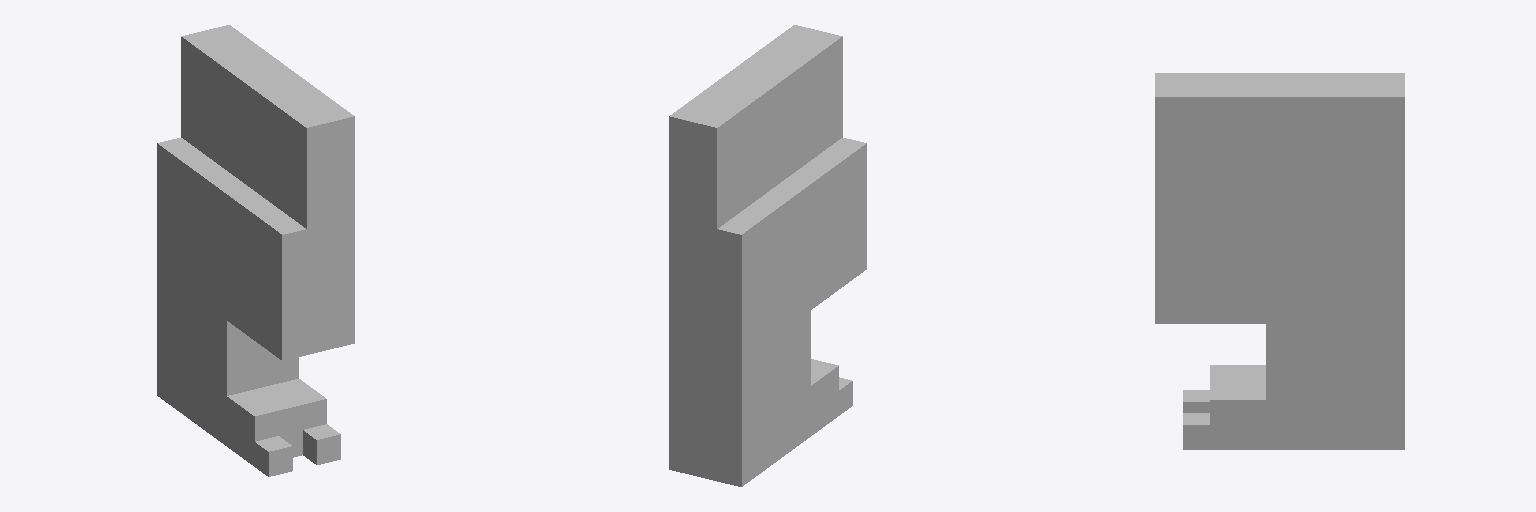
File: leftleg.obj
The picture shows the model from 3 angles: view 1: azimuth 30°, elevation 25°; view 2: azimuth 150°, elevation 25°; view 3: azimuth 270°, elevation 25°; orthographic projection.
Bounding box in the file's own units: 3 × 14 × 9.